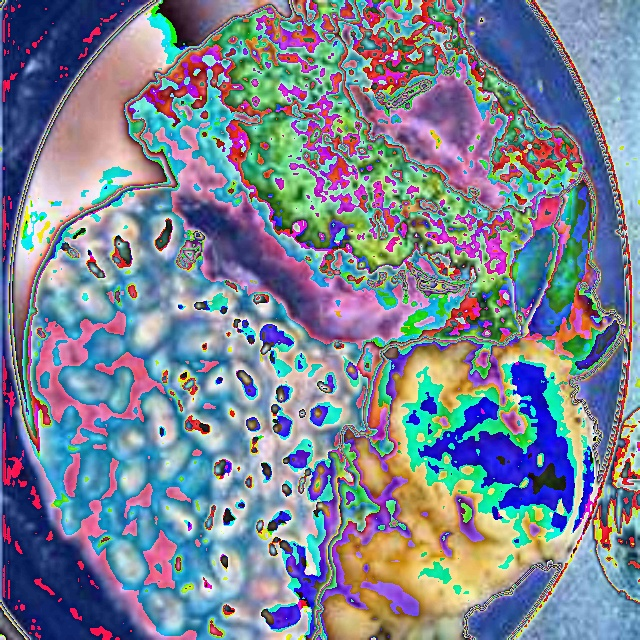background: (23, 0, 624, 640)
